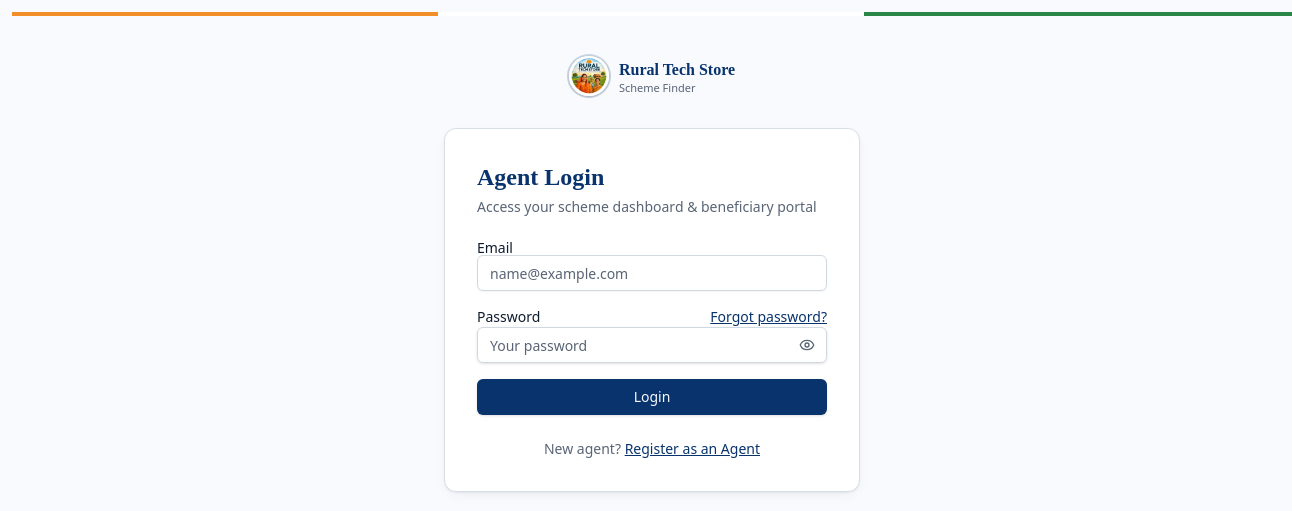
Test: Dynamic Sub-Admin Management and Approval Routing System › Sub-Admin can log in directly with email and password without OTP verification and is redirected to /sub-admin
The image size is (1292, 511).
Type "rajesh@navogiz.org" into the field labelled "Email" at (652, 273), box [477,255,827,291]
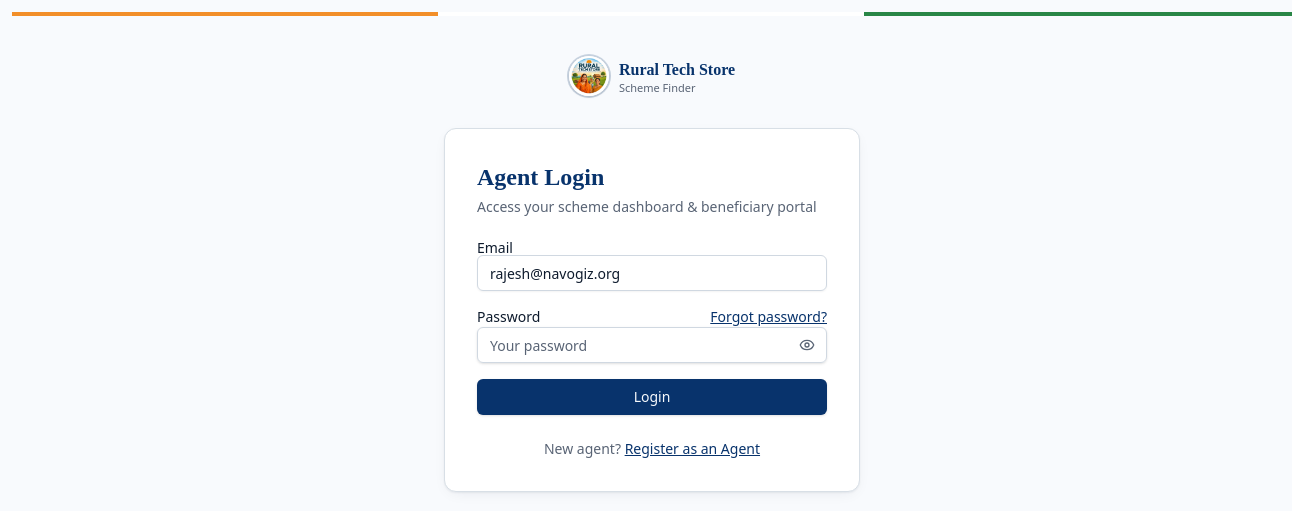
Type "password123" into the password field labelled "Password" at (652, 345), box [477,327,827,363]
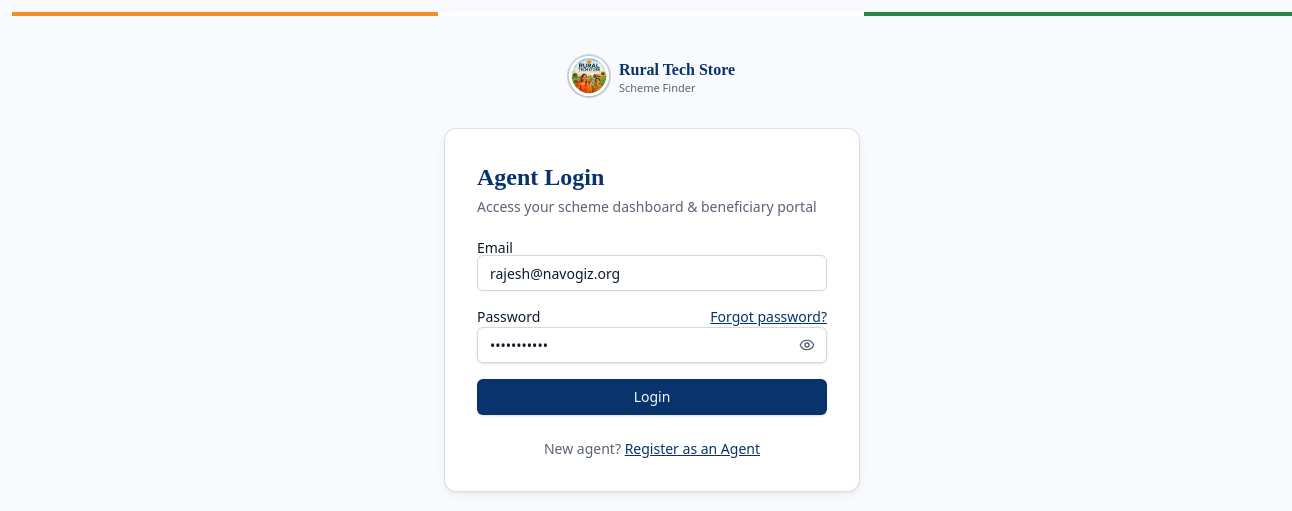
Click the button "Login" at (652, 397), box [477,379,827,415]
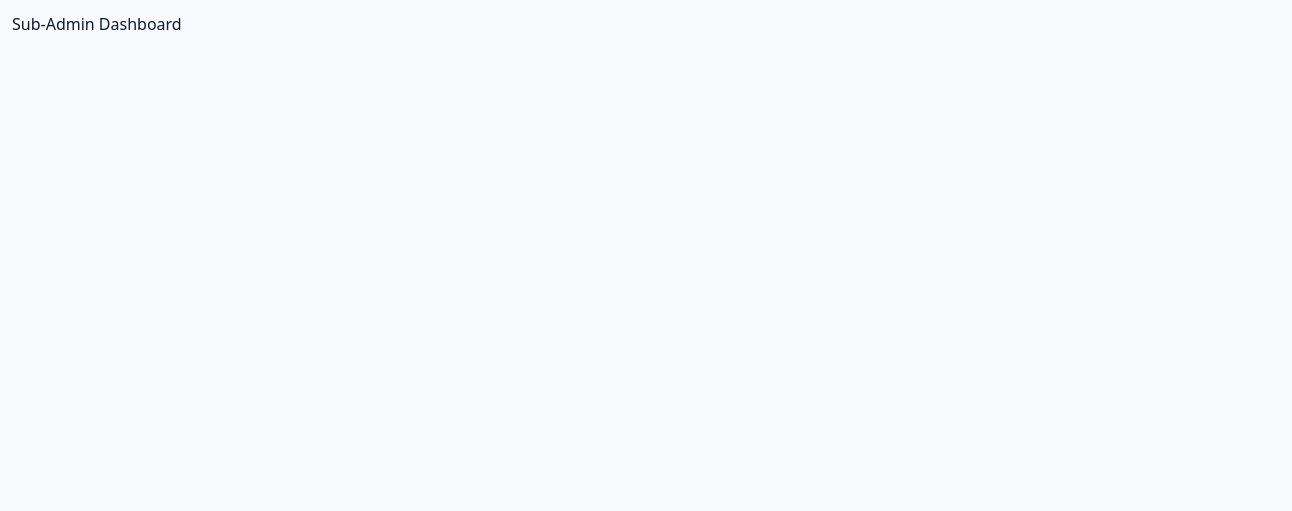
Expected: the text "Sub-Admin Dashboard" is shown, [12,13,182,35]
Expected: the field "Verify Your Email" is gone
